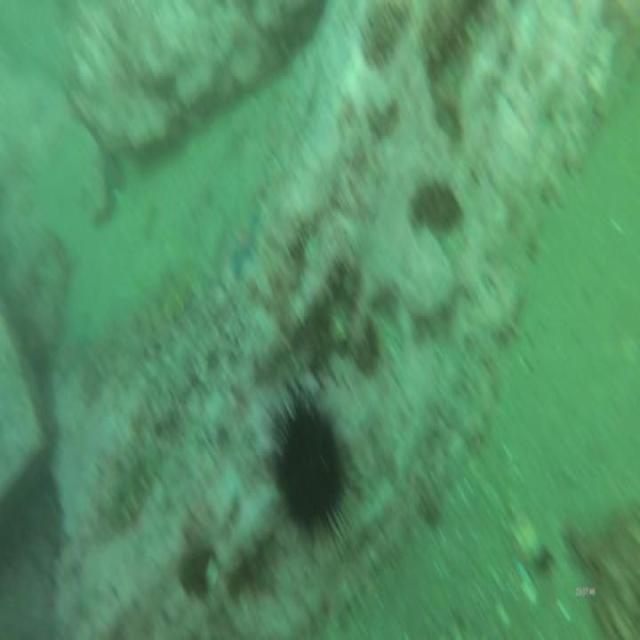echinus: (274, 392, 346, 539)
holothurian: (100, 449, 156, 534), (138, 252, 196, 322)
starfish: (223, 212, 261, 286)
